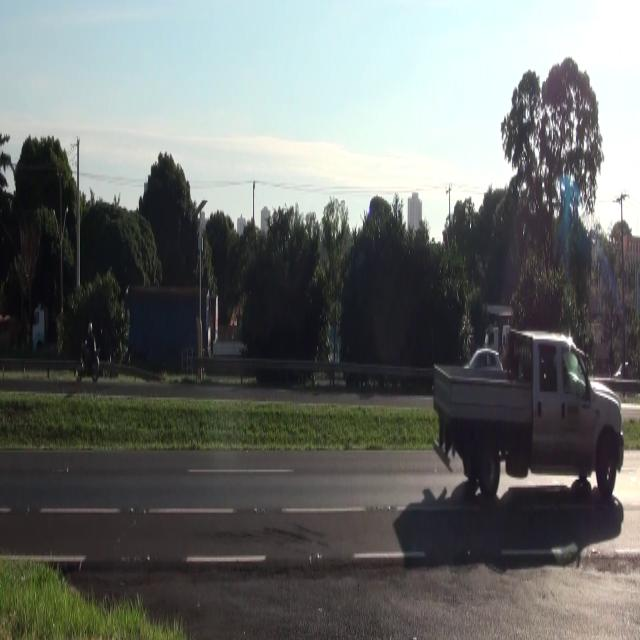-axle: (475, 431, 501, 500), (596, 429, 619, 502)
